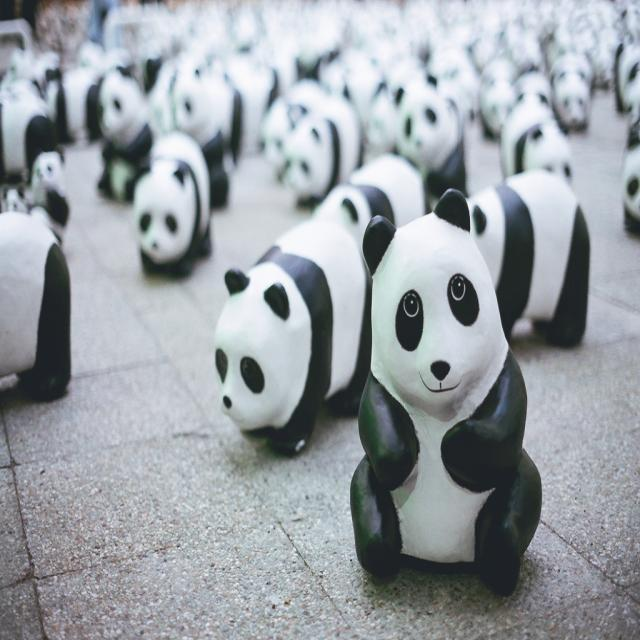panda: (344, 190, 545, 595), (212, 209, 377, 459), (462, 170, 587, 343), (0, 208, 74, 400), (129, 127, 213, 273), (268, 78, 352, 214), (391, 73, 467, 203), (96, 57, 155, 202), (549, 52, 591, 130), (621, 132, 639, 236)
